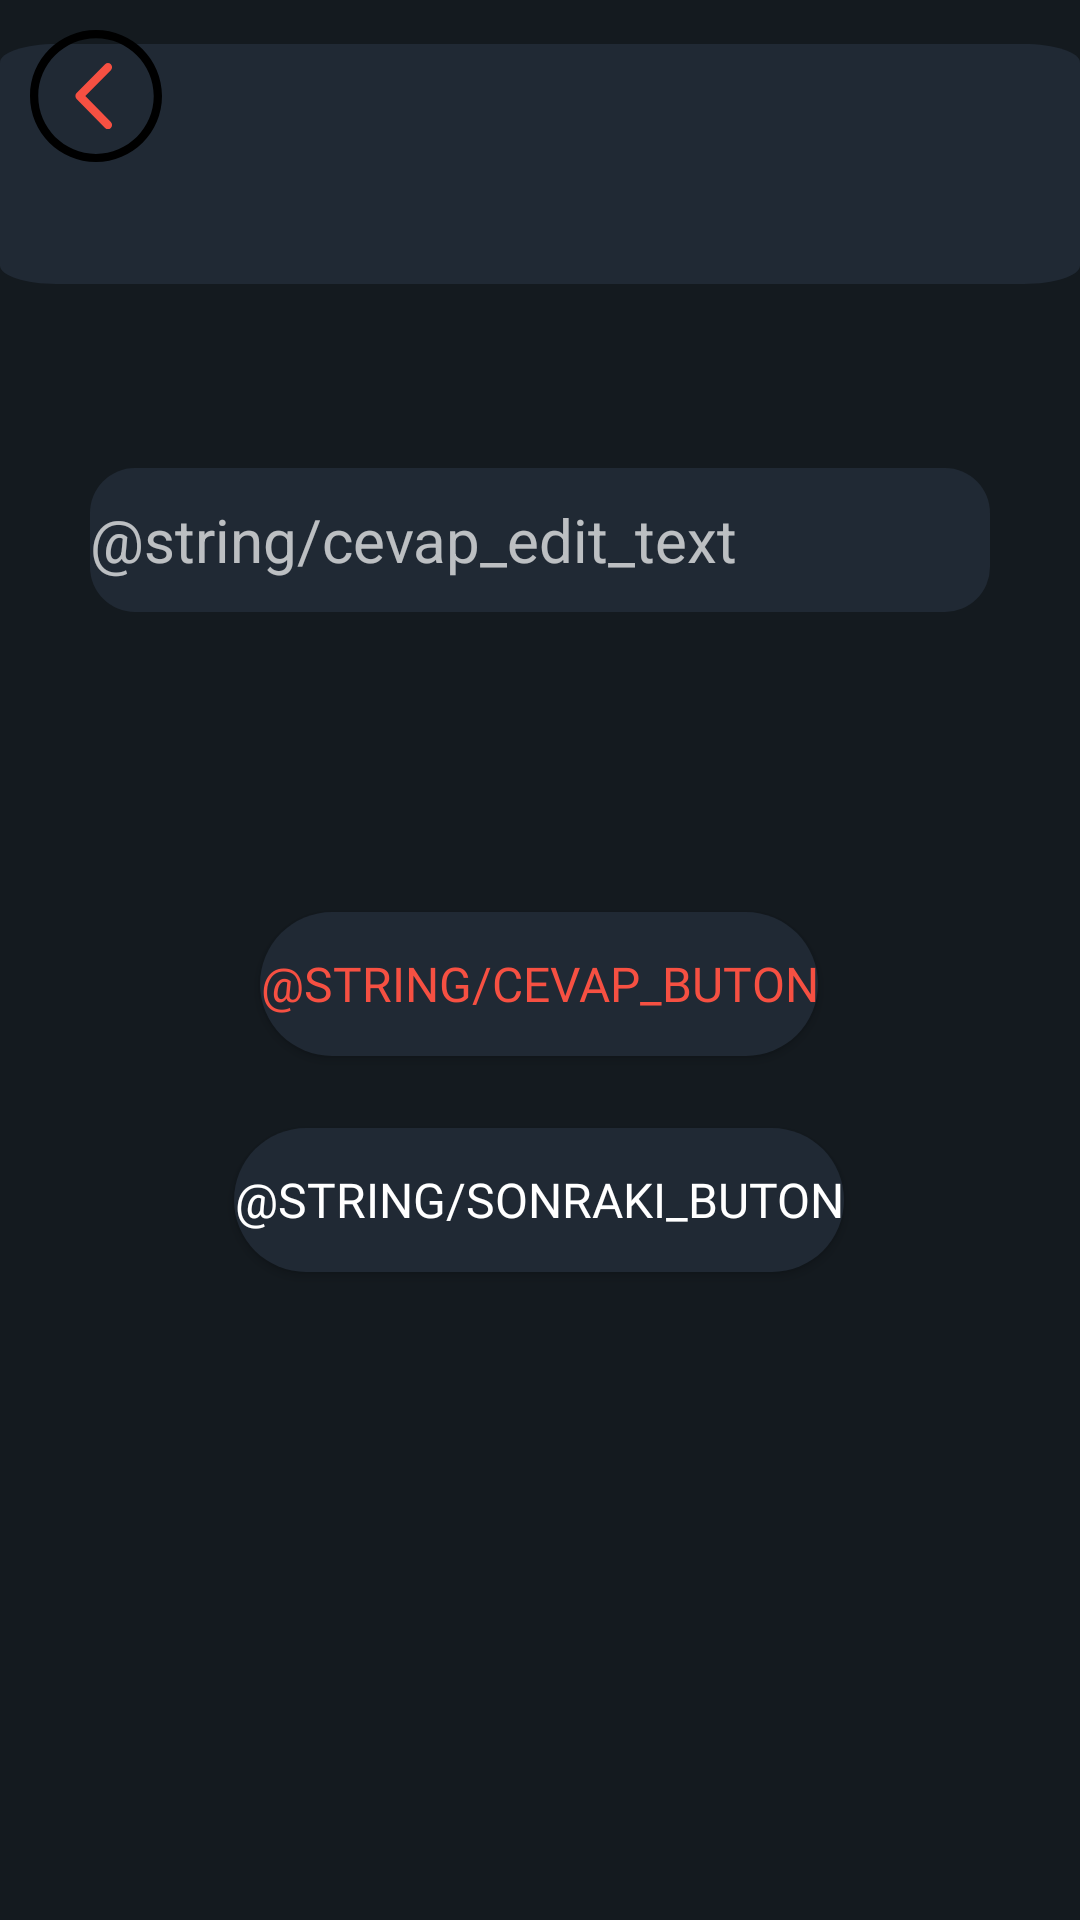

Screen size 1080 x 1920. Icon name, then its box in pixels as detection(x1, y1, x2, y2):
back: detection(30, 30, 162, 162)
